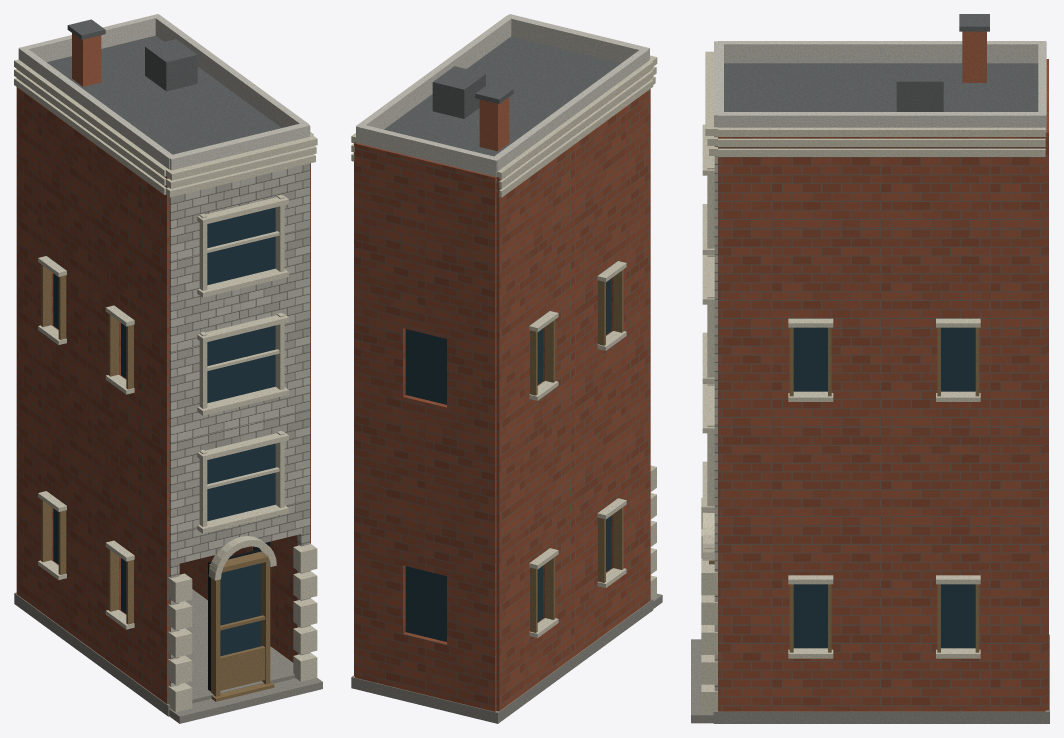
Rendered from OFFC18_lod2.glb.
3 renders of one model, left to right at view 1: azimuth 30°, elevation 25°; view 2: azimuth 150°, elevation 25°; view 3: azimuth 270°, elevation 25°, orthographic. The views are drawn at different scales.
Visible parts, largest first — view 1: OFFC18_LOD2; view 2: OFFC18_LOD2; view 3: OFFC18_LOD2.
Part boxes in pixels (x1=…): OFFC18_LOD2: x1=14, y1=14, x2=322, y2=723; OFFC18_LOD2: x1=351, y1=14, x2=662, y2=723; OFFC18_LOD2: x1=691, y1=14, x2=1049, y2=723.
Bounding box in the file's own units: 3.71 × 13.05 × 6.57.
Materials: 10 (8 with a texture image).
